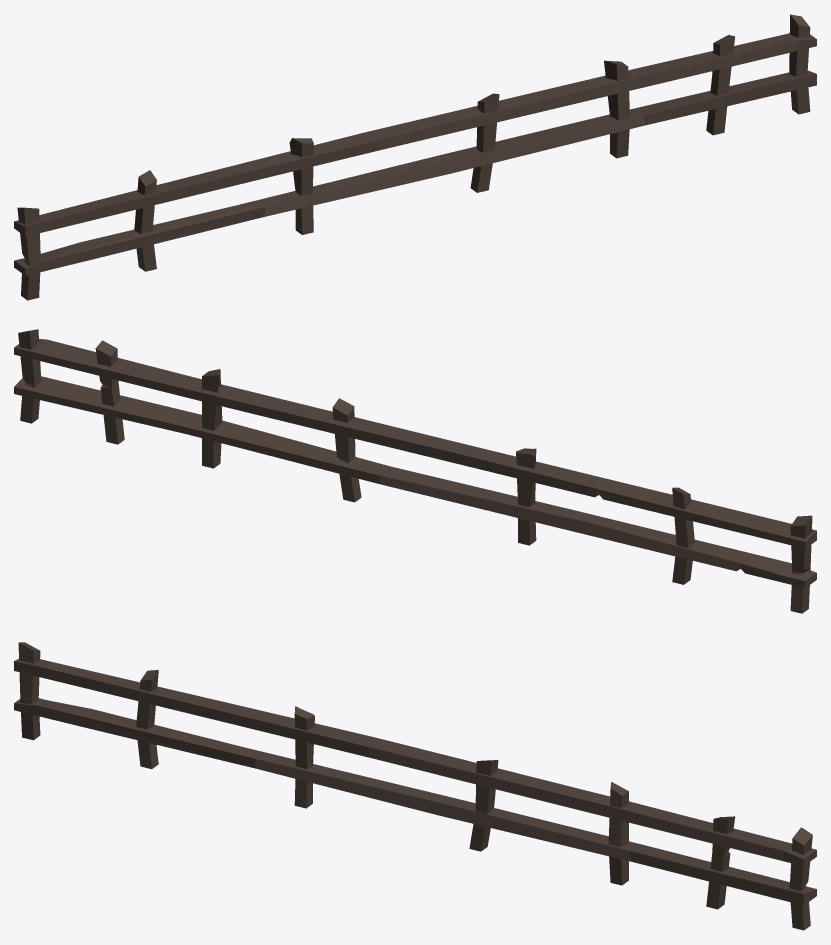
The model's file is Fence_4.fbx.
3 views of the same model, one above another, from view 1: azimuth 30°, elevation 25°; view 2: azimuth 150°, elevation 25°; view 3: azimuth 330°, elevation 25° (orthographic).
Visible parts, largest first — view 1: Fence_4; view 2: Fence_4; view 3: Fence_4.
Boxes of the visible parts, x1=… form: Fence_4: x1=14, y1=14, x2=816, y2=300; Fence_4: x1=14, y1=329, x2=816, y2=613; Fence_4: x1=14, y1=642, x2=816, y2=930.
Size of the model in its own units: 921 by 28.69 by 105.
